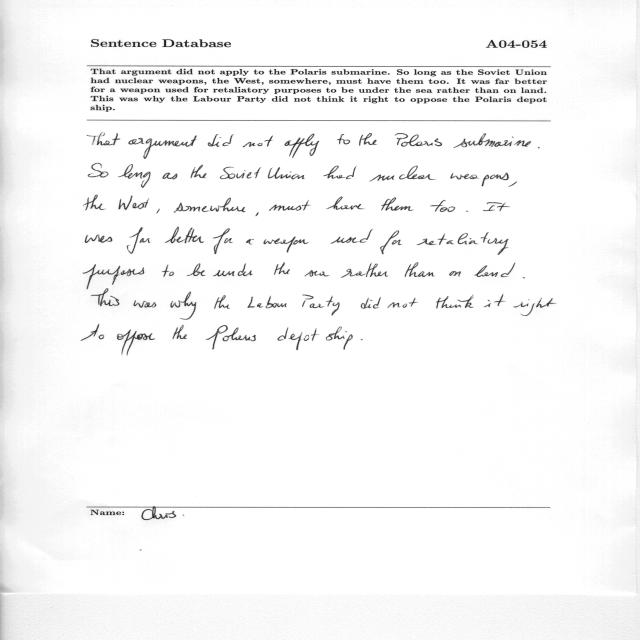word: (417, 232, 509, 255), (128, 135, 197, 159), (83, 265, 144, 290), (206, 325, 256, 350), (453, 133, 531, 148), (174, 198, 246, 213), (369, 166, 436, 182), (117, 329, 155, 356), (278, 328, 319, 351), (450, 173, 509, 187), (285, 134, 319, 158), (302, 295, 340, 316), (514, 298, 557, 316), (118, 164, 150, 188), (171, 292, 197, 320), (264, 237, 309, 253), (341, 263, 388, 278), (395, 133, 442, 147), (331, 229, 374, 244), (165, 227, 204, 243), (127, 227, 150, 254), (326, 327, 353, 350), (474, 263, 516, 277), (380, 231, 402, 255), (213, 228, 233, 254), (213, 264, 253, 277), (220, 167, 261, 179), (327, 197, 364, 210), (436, 295, 473, 308), (92, 289, 120, 306), (248, 296, 287, 308), (381, 197, 414, 211), (269, 200, 310, 211), (119, 195, 149, 210), (268, 168, 305, 180), (323, 166, 357, 179), (405, 263, 434, 277), (88, 133, 121, 145), (81, 324, 104, 341), (208, 134, 234, 147), (243, 136, 273, 147), (84, 195, 105, 210), (387, 298, 418, 308), (88, 163, 108, 178), (431, 200, 456, 212), (484, 295, 505, 307), (483, 202, 510, 211), (361, 297, 381, 309), (359, 133, 377, 146), (187, 263, 205, 276), (214, 295, 230, 309), (85, 235, 112, 243), (191, 165, 207, 178), (274, 262, 290, 275), (173, 325, 187, 339), (134, 300, 156, 308), (305, 270, 330, 277), (162, 264, 174, 277), (337, 134, 350, 144), (163, 173, 178, 180), (449, 271, 461, 276), (508, 182, 517, 187), (246, 239, 254, 244), (157, 209, 160, 213), (256, 212, 259, 216), (538, 147, 540, 149), (466, 211, 468, 212), (523, 277, 525, 278), (361, 339, 362, 340)
